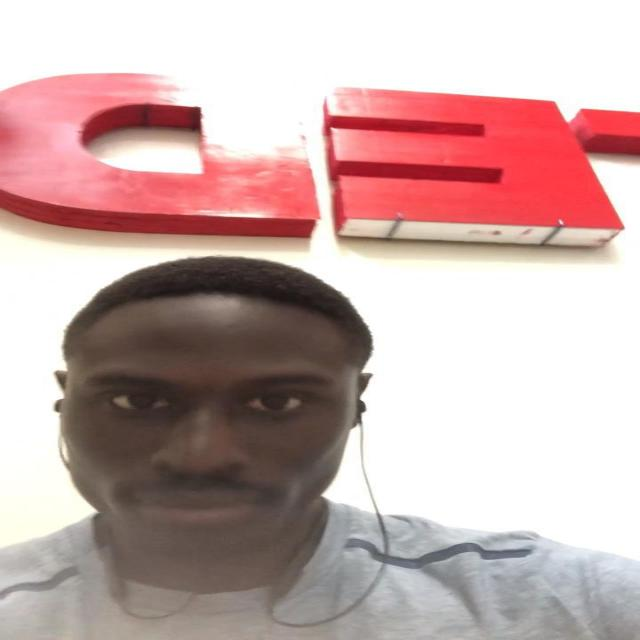face: (51, 298, 369, 562)
